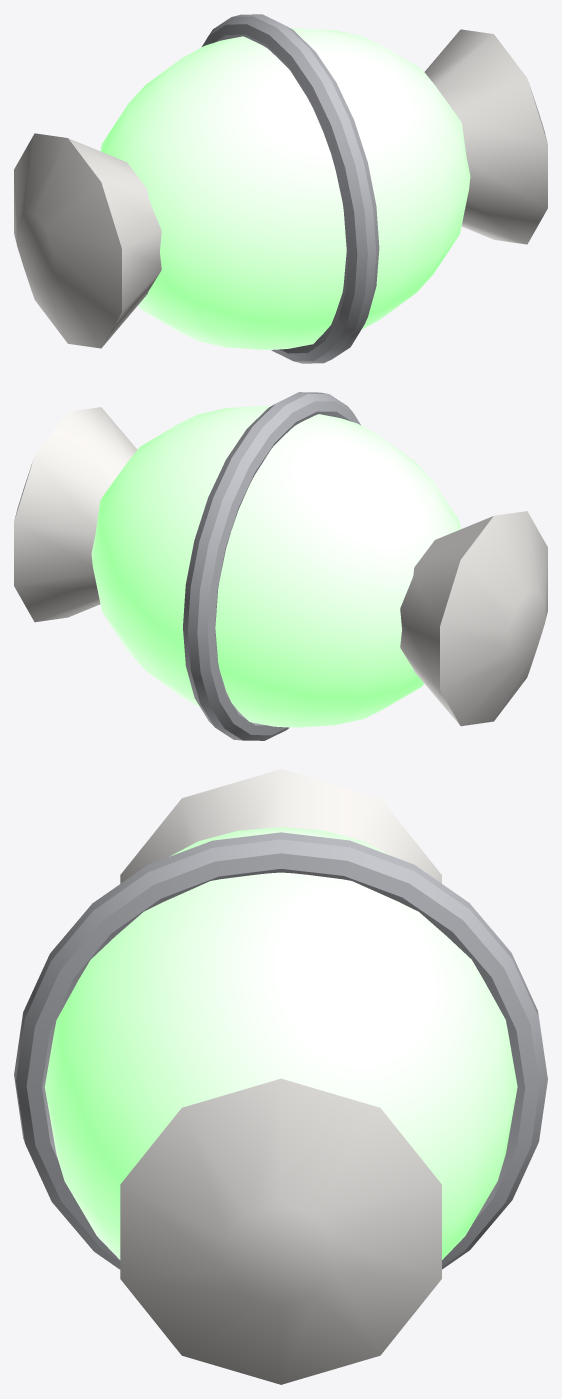
File: ITEM_CandyCell_Green.fbx
3 views of the same model, one above another, from view 1: azimuth 30°, elevation 25°; view 2: azimuth 150°, elevation 25°; view 3: azimuth 270°, elevation 25° (orthographic). The views are drawn at different scales.
Parts seen in each view (by area): view 1: ITEM_CandyCell_Green; view 2: ITEM_CandyCell_Green; view 3: ITEM_CandyCell_Green.
Boxes of the visible parts, x1,y1,x2,y2 form: ITEM_CandyCell_Green: [14, 14, 547, 363]; ITEM_CandyCell_Green: [14, 392, 547, 740]; ITEM_CandyCell_Green: [14, 769, 547, 1384].
Bounding box in the file's own units: 0.6 × 0.379 × 0.3791.
